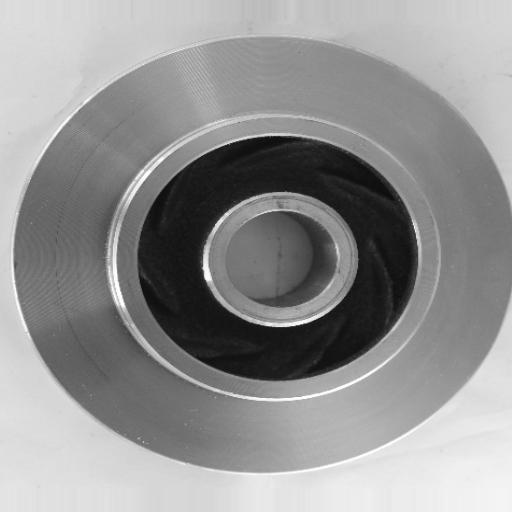polished_casting: (13, 34, 512, 473)
